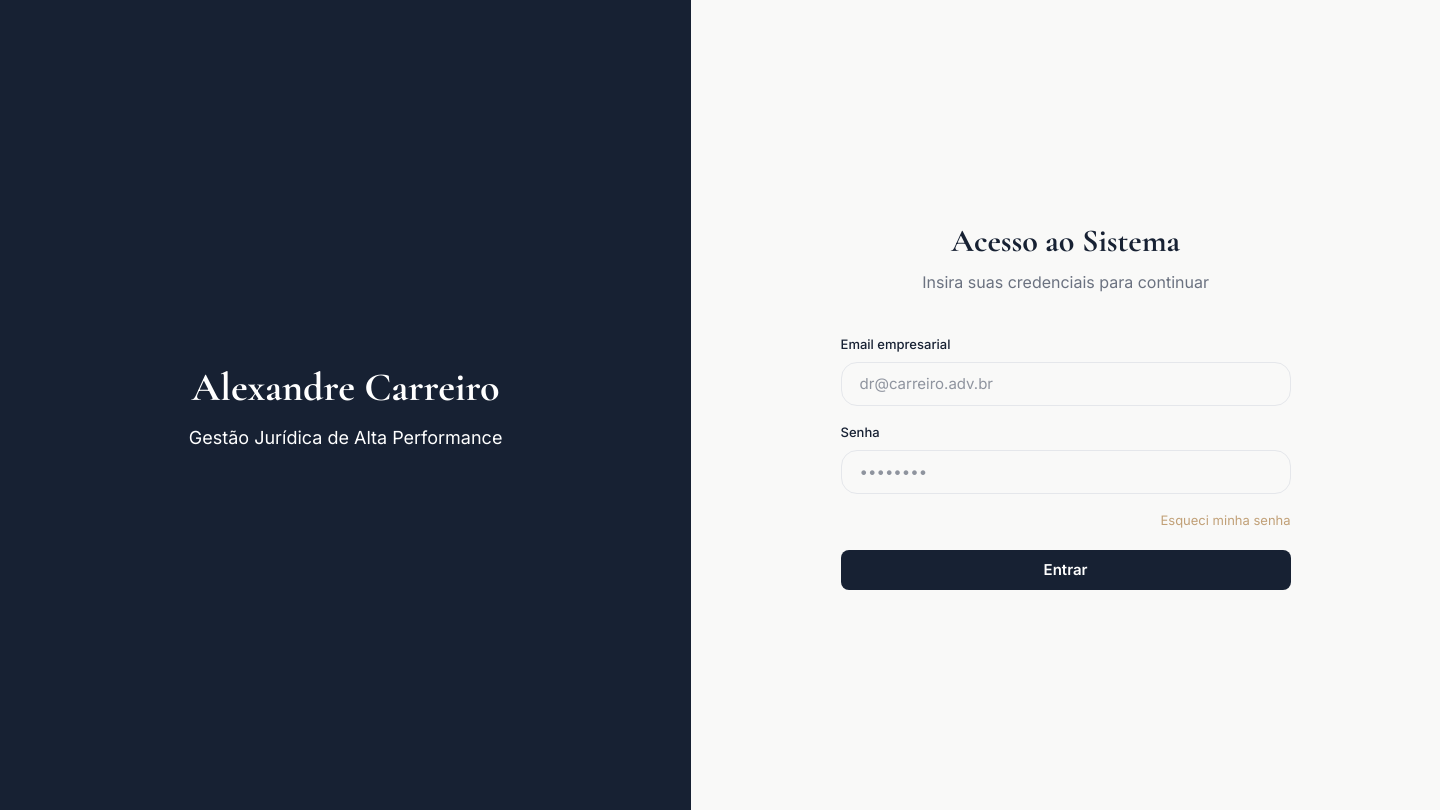
Test: Integração: Fluxo de Login (LoginPage + useLogin + AuthProvider + services/auth + fetch) › propaga e exibe na interface a mensagem quando POST /auth/login retorna erro 401 com campo detail da API
In the field labelled "Email empresarial": (1066, 384) [841,362,1291,406], type "usuario@carreiro.adv.br"
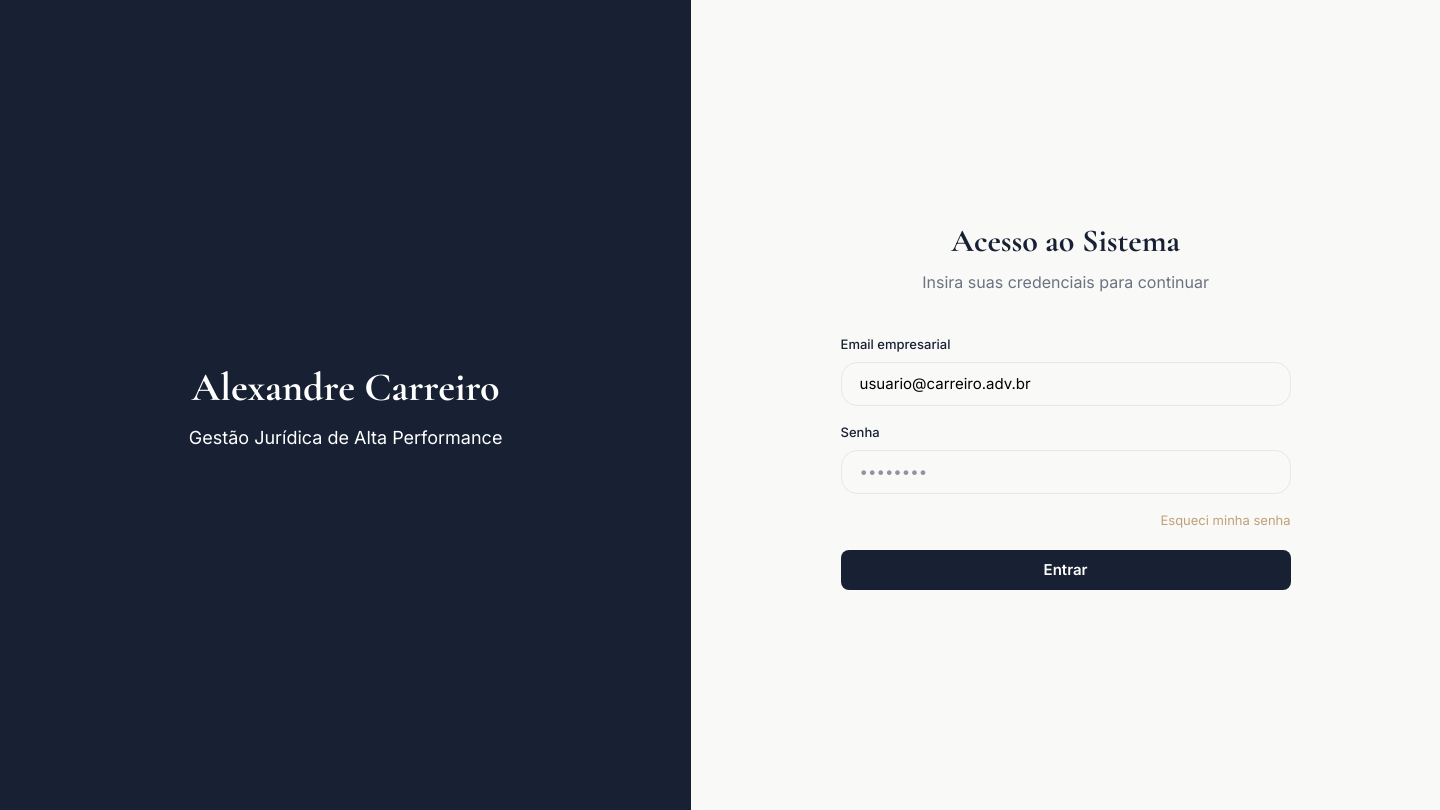
In the password field labelled "Senha": (1066, 472) [841,450,1291,494], type "senha-incorreta"
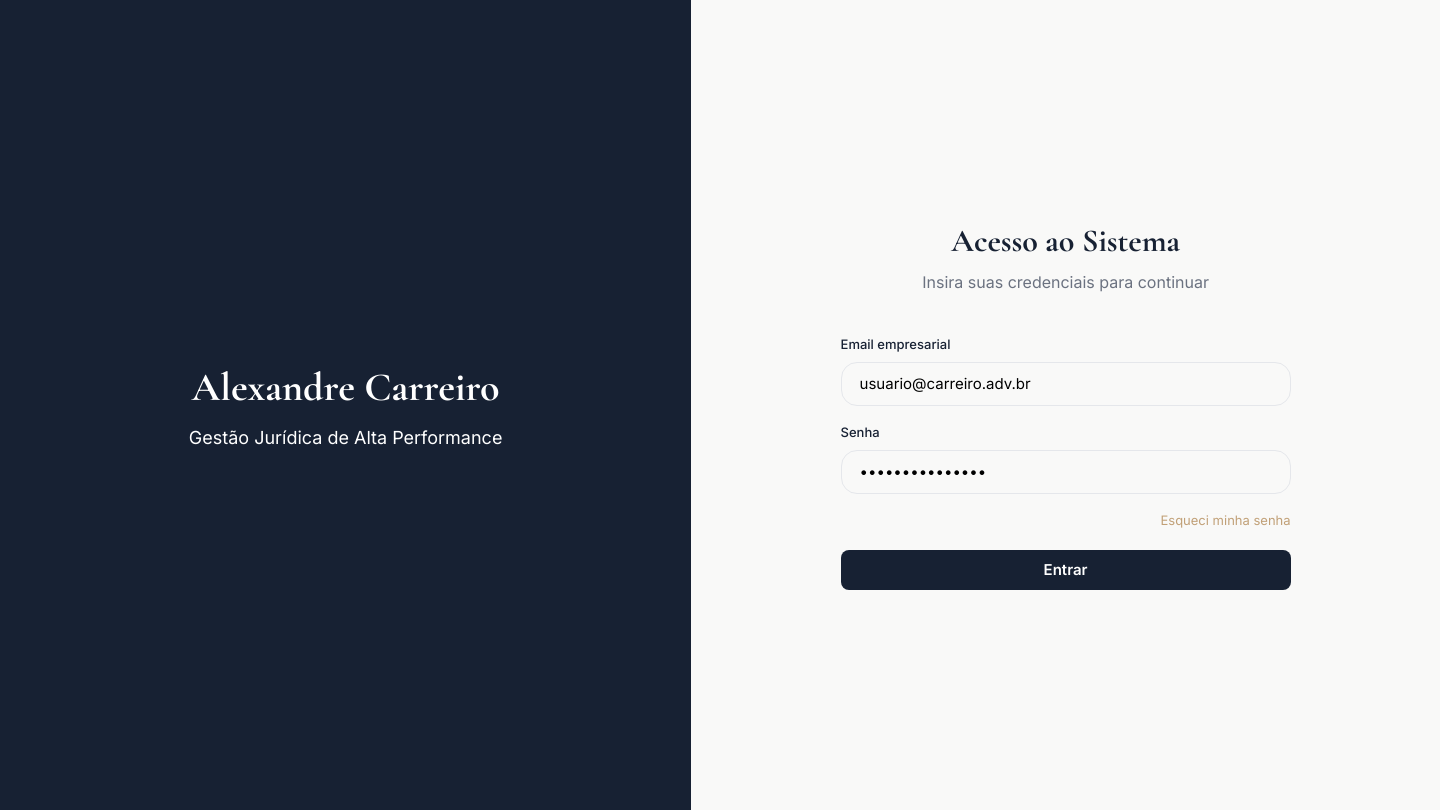
Click the button "Entrar": (1066, 570) [841,550,1291,590]
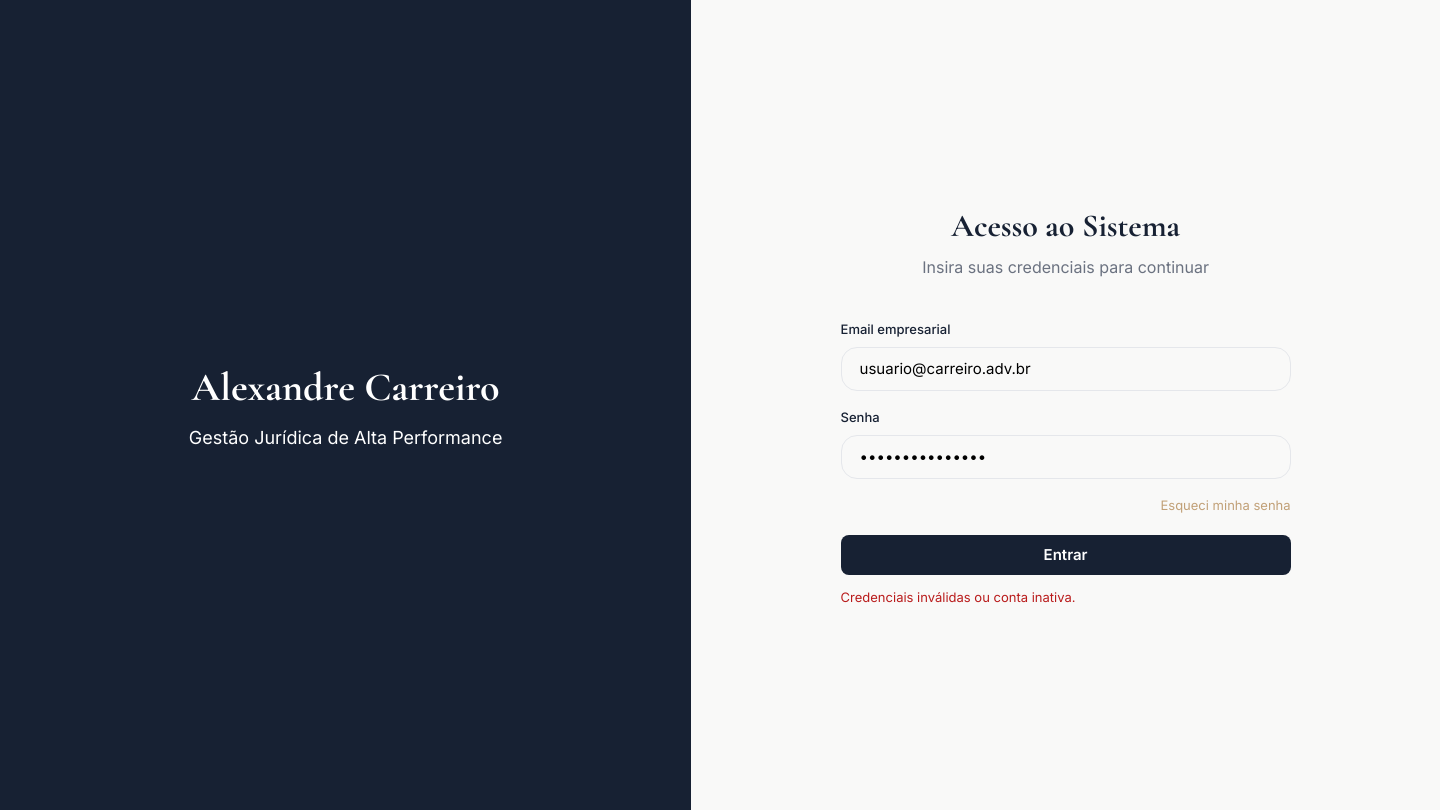
Result: the text "Credenciais inválidas ou conta inativa." is shown at [841,588,1076,604]
